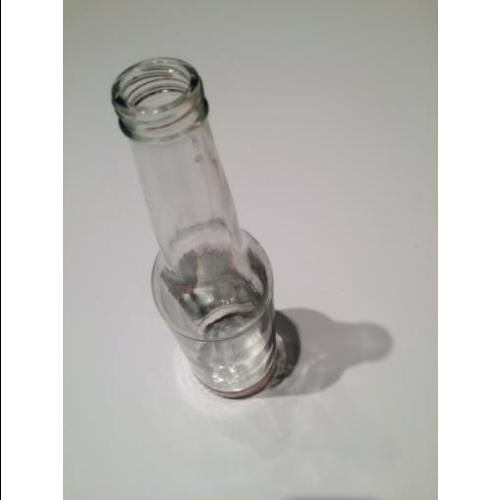glass: (112, 55, 279, 400)
